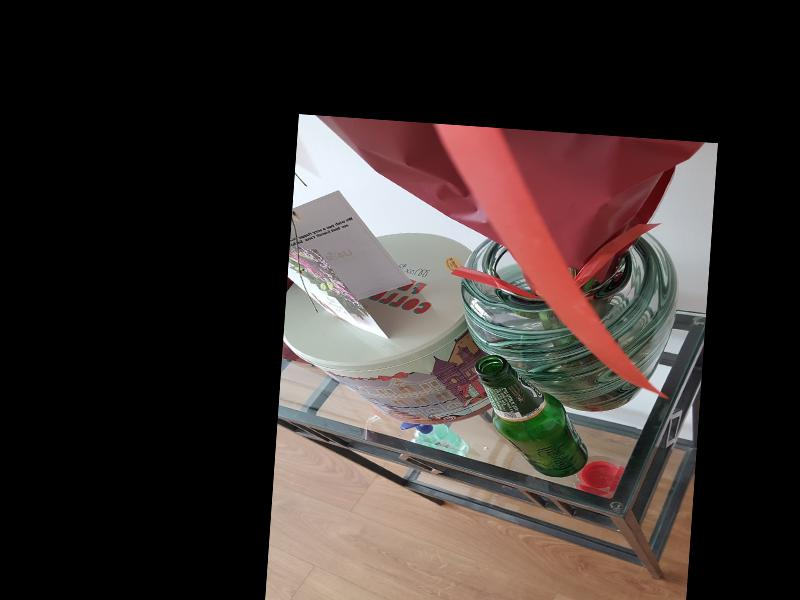Beer: (468, 354, 596, 479)
